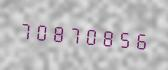eight: (49, 17, 64, 48), (97, 21, 112, 52)
five: (113, 22, 128, 53)
seven: (17, 14, 32, 45), (65, 18, 80, 49)
six: (129, 24, 144, 55)
zero: (81, 19, 96, 51), (33, 15, 48, 46)
